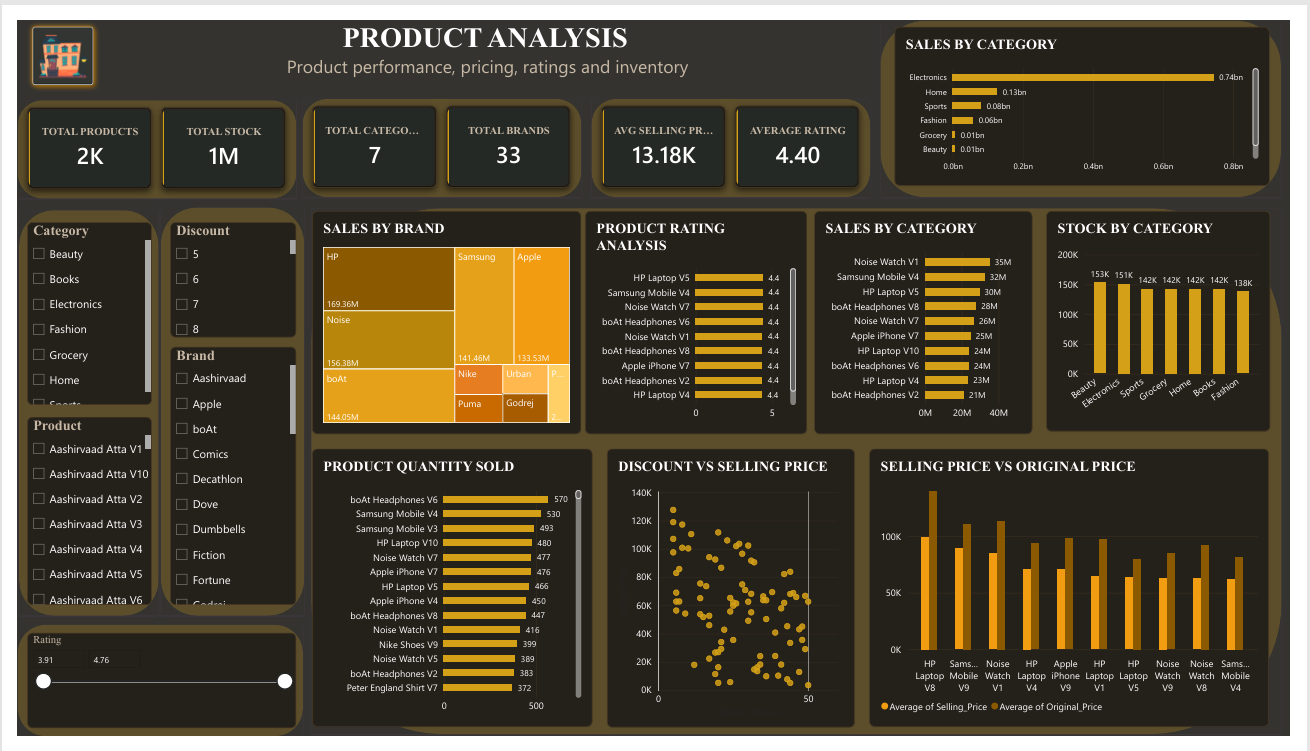

What the dashboard file says about the page in this screenshot:
{"tool":"powerbi","page":{"name":"PRODUCT","canvas":[1920,1080],"ordinal":2},"visuals":[{"type":"textbox","box":[123.3,0,1163.3,103.3],"z":0},{"type":"shape","box":[1302,0,604,266],"z":1000},{"type":"group","id":"g1","title":"Group 1","box":[430,118,420,148],"z":2000},{"type":"shape","box":[430,118,420,148],"z":2000,"group":"g1"},{"type":"shape","box":[866,118,420,148],"z":2000,"group":"g3"},{"type":"shape","box":[0,120,420,148],"z":2000,"group":"g2"},{"type":"group","id":"g2","title":"Group 1","box":[0,120,420,148],"z":3000},{"type":"group","id":"g3","title":"Group 1","box":[866,118,420,148],"z":4000},{"type":"clusteredBarChart","title":"SALES BY CATEGORY","fields":{"Category":["product.Category"],"Y":["Sum(sales.Total_Amount)"]},"box":[1323.3,9.2,566,240],"z":5000},{"type":"shape","box":[2,286,210,612],"z":6000},{"type":"shape","box":[216,282,216,616],"z":7000},{"type":"slicer","fields":{"Values":["product.Category"]},"box":[14,304,188,276],"z":8000},{"type":"shape","box":[0,912,430,168],"z":9000},{"type":"slicer","fields":{"Values":["product.Product_Name"]},"box":[14,598,188,284],"z":10000},{"type":"slicer","fields":{"Values":["product.Brand"]},"box":[230,492,190,390],"z":11000},{"type":"slicer","fields":{"Values":["product.Discount_Percent"]},"box":[230,304,190,174],"z":12000},{"type":"slicer","fields":{"Values":["product.Avg_Rating"]},"box":[14,924,406,144],"z":13000},{"type":"shape","box":[443.3,283.3,1463.3,793.3],"z":14000},{"type":"cardVisual","title":"TOTAL CUSTOMERS","fields":{"Data":["product.TOTAL CATEGORIES"]},"box":[444,128,188,124.2],"z":15000,"group":"g1"},{"type":"cardVisual","title":"TOTAL CUSTOMERS","fields":{"Data":["product.AVERAGE SELLING PRICE"]},"box":[880,128,188,124.2],"z":15000,"group":"g3"},{"type":"cardVisual","title":"TOTAL CUSTOMERS","fields":{"Data":["customer.TOTAL PRODUCTS"]},"box":[14,130,188,124.2],"z":15000,"group":"g2"},{"type":"treemap","title":"SALES BY BRAND","fields":{"Group":["product.Brand"],"Values":["Sum(sales.Total_Amount)"]},"box":[443.6,287.1,406.8,336.8],"z":15000},{"type":"cardVisual","title":"TOTAL CUSTOMERS","fields":{"Data":["product.TOTAL BRANDS"]},"box":[646,128,188,124.2],"z":16000,"group":"g1"},{"type":"cardVisual","title":"TOTAL CUSTOMERS","fields":{"Data":["product.AVERAGE RATING"]},"box":[1082,128,188,124.2],"z":16000,"group":"g3"},{"type":"cardVisual","title":"TOTAL CUSTOMERS","fields":{"Data":["product.TOTAL STOCK"]},"box":[216,130,188,124.2],"z":16000,"group":"g2"},{"type":"clusteredBarChart","title":"SALES BY CATEGORY","fields":{"Category":["product.Product_Name"],"Y":["Sum(sales.Total_Amount)"]},"box":[1201.8,287.1,329.4,336.8],"z":16000},{"type":"clusteredBarChart","title":"PRODUCT RATING ANALYSIS","fields":{"Category":["product.Product_Name"],"Y":["Avg(product.Avg_Rating)"]},"box":[855.8,287.1,335,336.8],"z":17000},{"type":"scatterChart","title":"DISCOUNT VS SELLING PRICE","fields":{"X":["product.Discount_Percent"],"Y":["product.Selling_Price"]},"box":[889,646,373.6,421.5],"z":18000},{"type":"columnChart","title":"STOCK BY CATEGORY","fields":{"Category":["product.Category"],"Y":["product.TOTAL STOCK"]},"box":[1551.5,287.1,338.7,333.1],"z":19000},{"type":"clusteredColumnChart","title":"SELLING PRICE VS ORIGINAL PRICE","fields":{"Category":["product.Product_Name"],"Y":["Avg(product.Selling_Price)","Avg(product.Original_Price)"]},"box":[1284.7,646,603.3,420],"z":20000},{"type":"actionButton","box":[13.3,0,110,106],"z":21000},{"type":"barChart","title":"PRODUCT QUANTITY SOLD ","fields":{"Category":["product.Product_Name"],"Y":["sales.TOTAL QUANTITY SOLD"]},"box":[443.6,646,423.3,419.6],"z":22000}]}

Visuals, with their boxes in screenshot pixels (x1, y1, x2, y2), scaled from the page's 1920x1080 canvas onto the 1310x751 screenshot:
textbox: 84,0,878,72
shape: 888,0,1300,185
"Group 1" group: 293,82,580,185
shape: 293,82,580,185
shape: 591,82,877,185
shape: 0,83,287,186
"Group 1" group: 0,83,287,186
"Group 1" group: 591,82,877,185
"SALES BY CATEGORY" clusteredBarChart: 903,6,1289,173
shape: 1,199,145,624
shape: 147,196,295,624
slicer - product.Category: 10,211,138,403
shape: 0,634,293,750
slicer - product.Product_Name: 10,416,138,613
slicer - product.Brand: 157,342,287,613
slicer - product.Discount_Percent: 157,211,287,332
slicer - product.Avg_Rating: 10,643,287,743
shape: 302,197,1301,749
"TOTAL CUSTOMERS" cardVisual: 303,89,431,175
"TOTAL CUSTOMERS" cardVisual: 600,89,729,175
"TOTAL CUSTOMERS" cardVisual: 10,90,138,177
"SALES BY BRAND" treemap: 303,200,580,434
"TOTAL CUSTOMERS" cardVisual: 441,89,569,175
"TOTAL CUSTOMERS" cardVisual: 738,89,867,175
"TOTAL CUSTOMERS" cardVisual: 147,90,276,177
"SALES BY CATEGORY" clusteredBarChart: 820,200,1045,434
"PRODUCT RATING ANALYSIS" clusteredBarChart: 584,200,812,434
"DISCOUNT VS SELLING PRICE" scatterChart: 607,449,861,742
"STOCK BY CATEGORY" columnChart: 1059,200,1290,431
"SELLING PRICE VS ORIGINAL PRICE" clusteredColumnChart: 877,449,1288,741
actionButton: 9,0,84,74
"PRODUCT QUANTITY SOLD " barChart: 303,449,591,741
